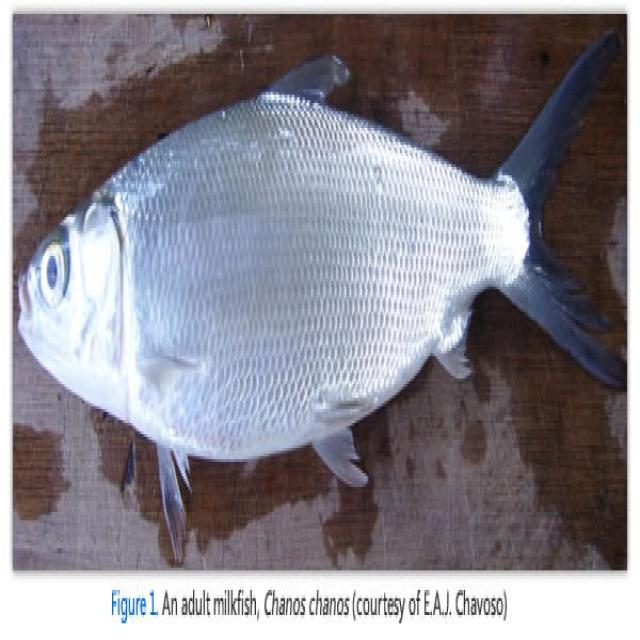Bangus: (7, 13, 640, 564)
